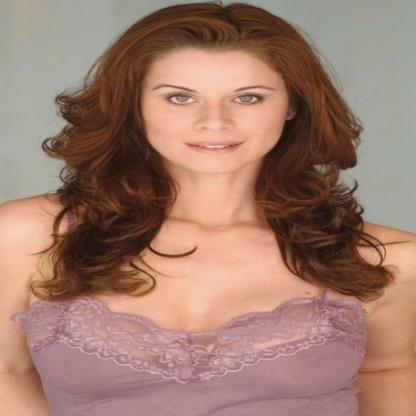long-hair: (17, 174, 390, 236)
